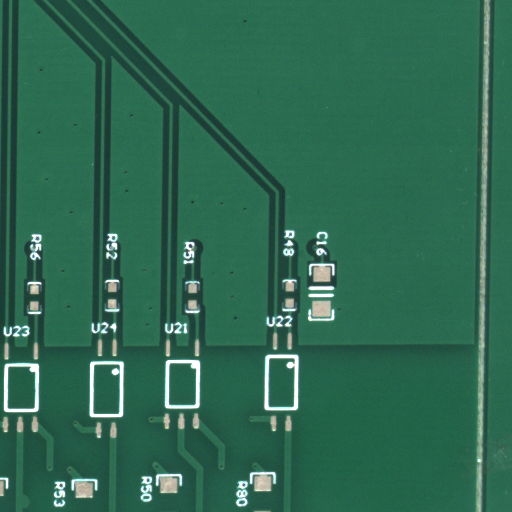Spur: (26, 500, 35, 512)
